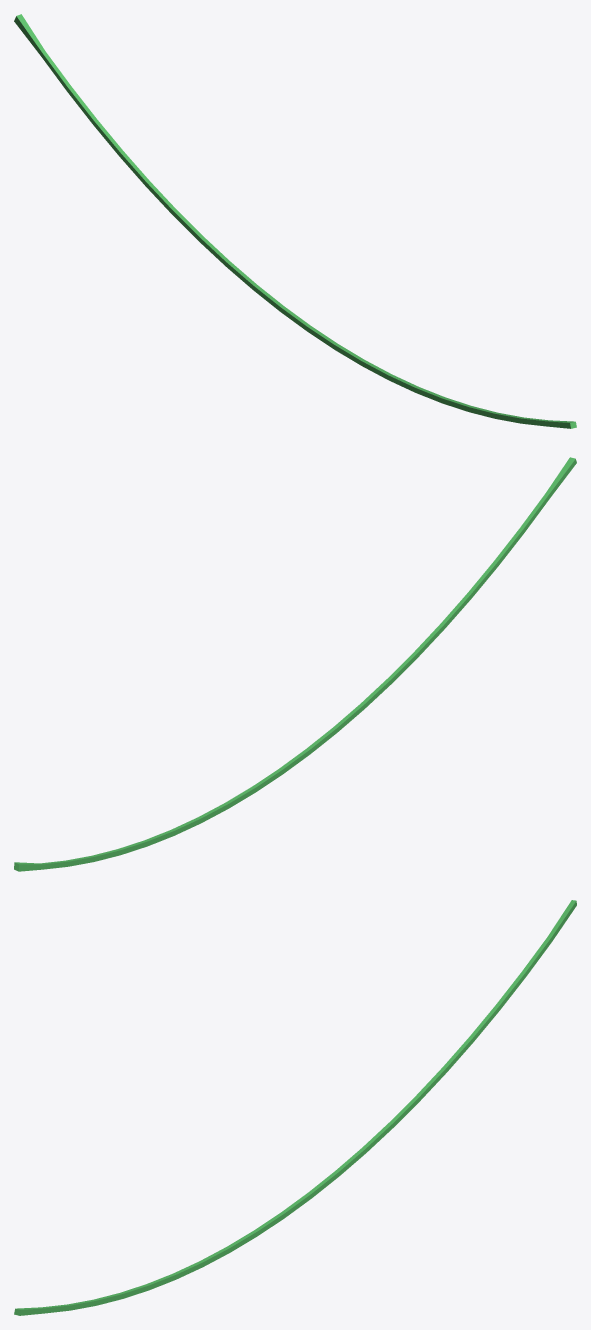
File: jungle_slime_E.fbx
The picture shows the model from 3 angles, top to bottom: view 1: azimuth 30°, elevation 25°; view 2: azimuth 150°, elevation 25°; view 3: azimuth 330°, elevation 25°; orthographic projection.
Visible parts, largest first — view 1: jungle_slime_E; view 2: jungle_slime_E; view 3: jungle_slime_E.
Boxes of the visible parts, x1,y1,x2,y2 form: jungle_slime_E: (14,14,576,428); jungle_slime_E: (14,457,576,871); jungle_slime_E: (14,900,576,1315).
Bounding box in the file's own units: 4.52 × 69.09 × 669.
